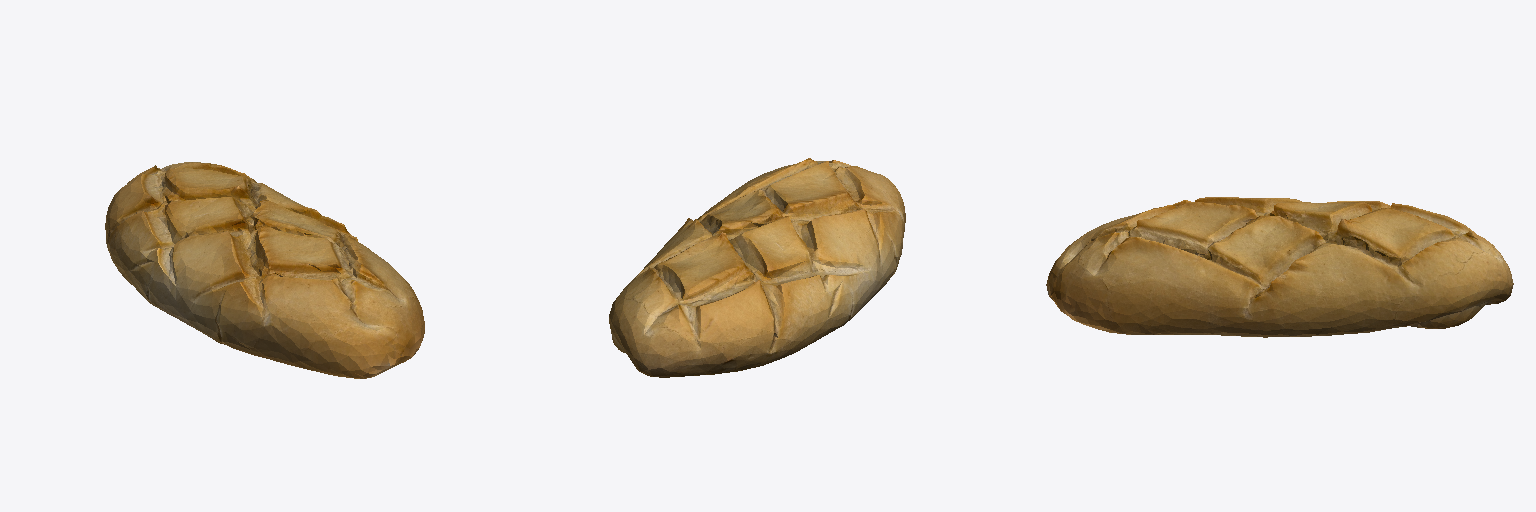
3 renders of one model, left to right at view 1: azimuth 30°, elevation 25°; view 2: azimuth 150°, elevation 25°; view 3: azimuth 270°, elevation 25°, orthographic.
Bounding box in the file's own units: 4.16 × 1.8 × 8.71.
1 materials, 1 textured.